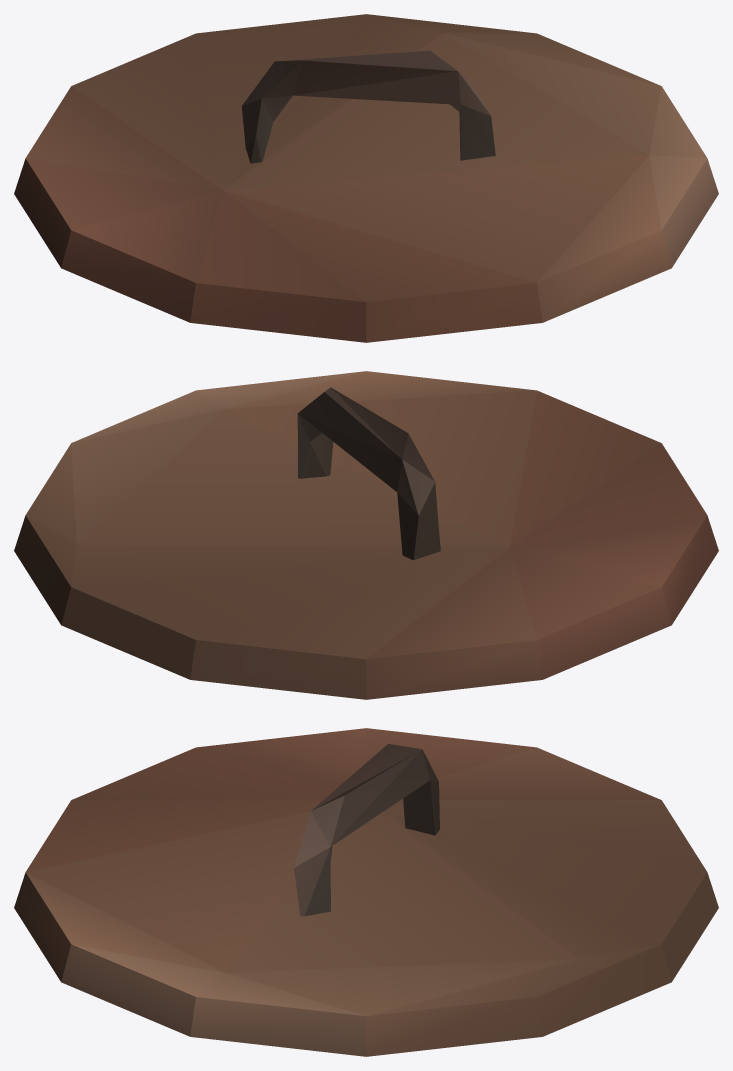
Rendered from Prop_BarrelCap.fbx.
3 renders of one model, top to bottom at view 1: azimuth 30°, elevation 25°; view 2: azimuth 150°, elevation 25°; view 3: azimuth 270°, elevation 25°, orthographic.
Parts seen in each view (by area): view 1: Prop_BarrelCap; view 2: Prop_BarrelCap; view 3: Prop_BarrelCap.
Boxes of the visible parts, bbox=[...] form: Prop_BarrelCap: bbox=[14, 14, 718, 342]; Prop_BarrelCap: bbox=[14, 371, 718, 699]; Prop_BarrelCap: bbox=[14, 728, 718, 1056].
Bounding box in the file's own units: 90.42 × 19.93 × 90.42.
